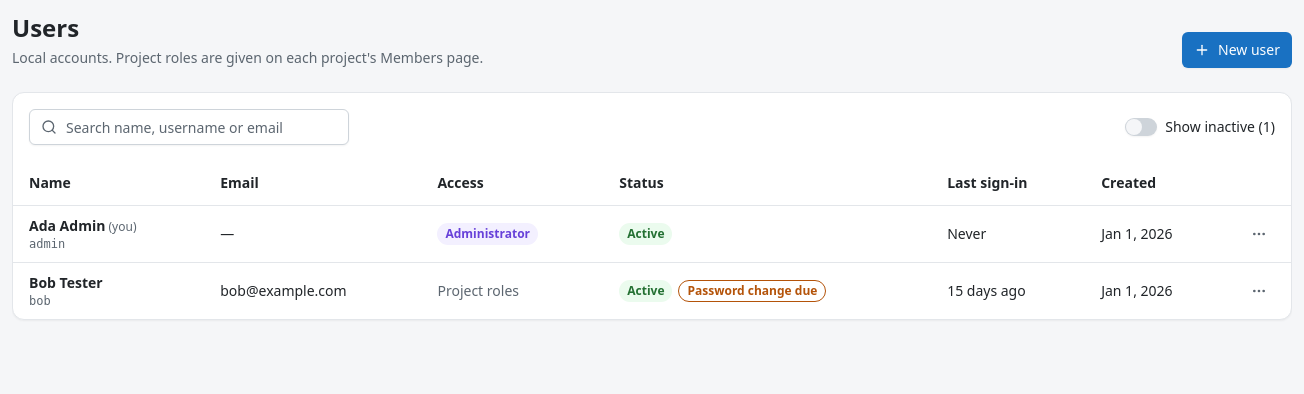
UsersPage › lists active users, filters them and shows inactive ones on request
Expected: the text "Password change due" is shown, [678, 280, 826, 302]
Expected: the text "bob@example.com" is shown, [204, 262, 422, 318]
Click the switch named "Show inactive (1)" at {"x": 1141, "y": 127}, box [1125, 118, 1157, 136]
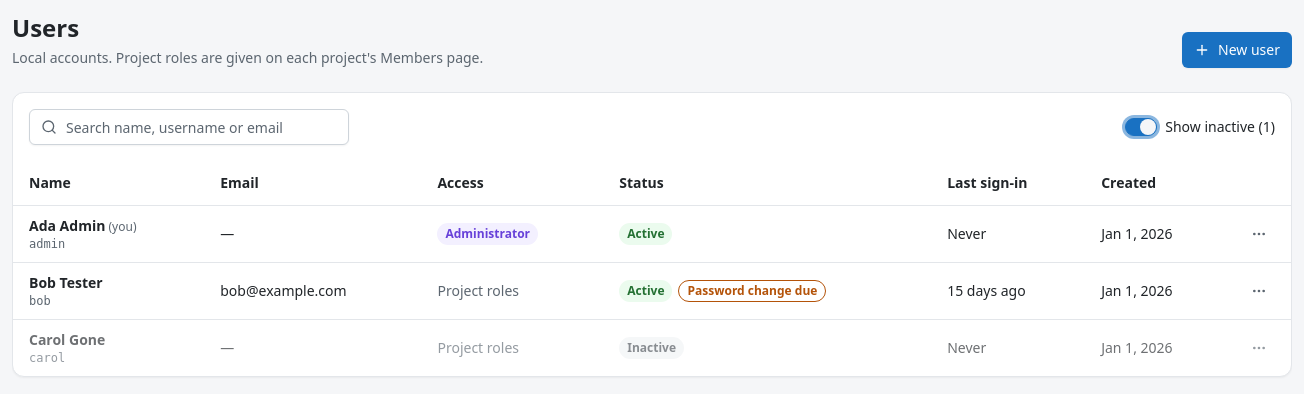
Expected: the text "Carol Gone" is shown, [29, 330, 105, 348]
Type "EXAMPLE" into the field named "Search users" at {"x": 189, "y": 127}, box [29, 109, 349, 145]
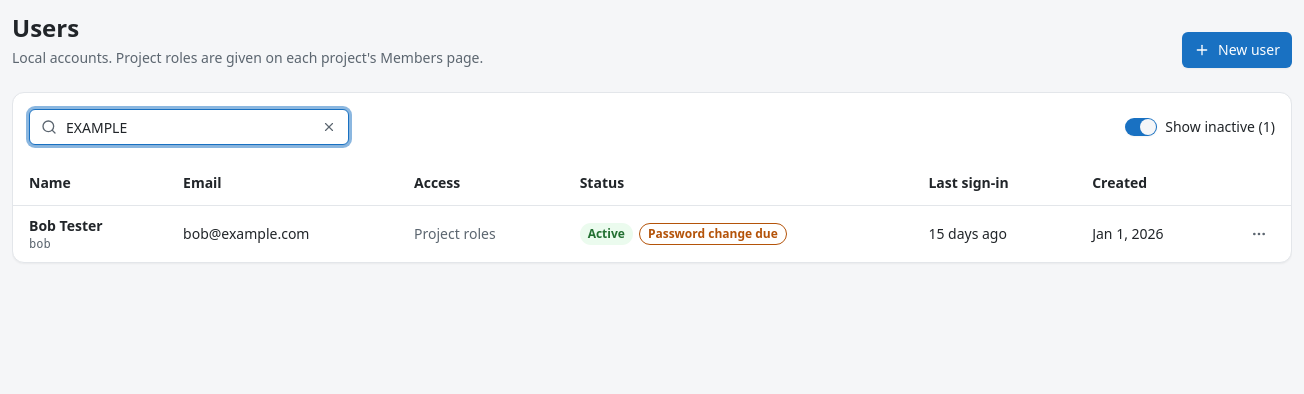
Expected: the text "Bob Tester" is shown, [29, 216, 103, 234]
Expected: the text "Ada Admin" is gone
Type "zzz" into the field named "Search users" at {"x": 189, "y": 127}, box [29, 109, 349, 145]
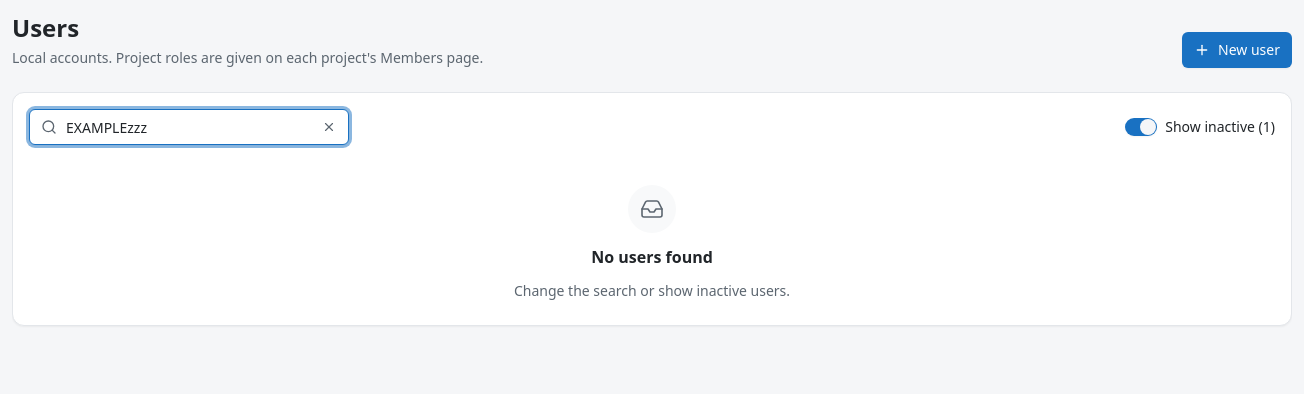
Expected: the heading "No users found" is shown, [591, 245, 713, 269]
